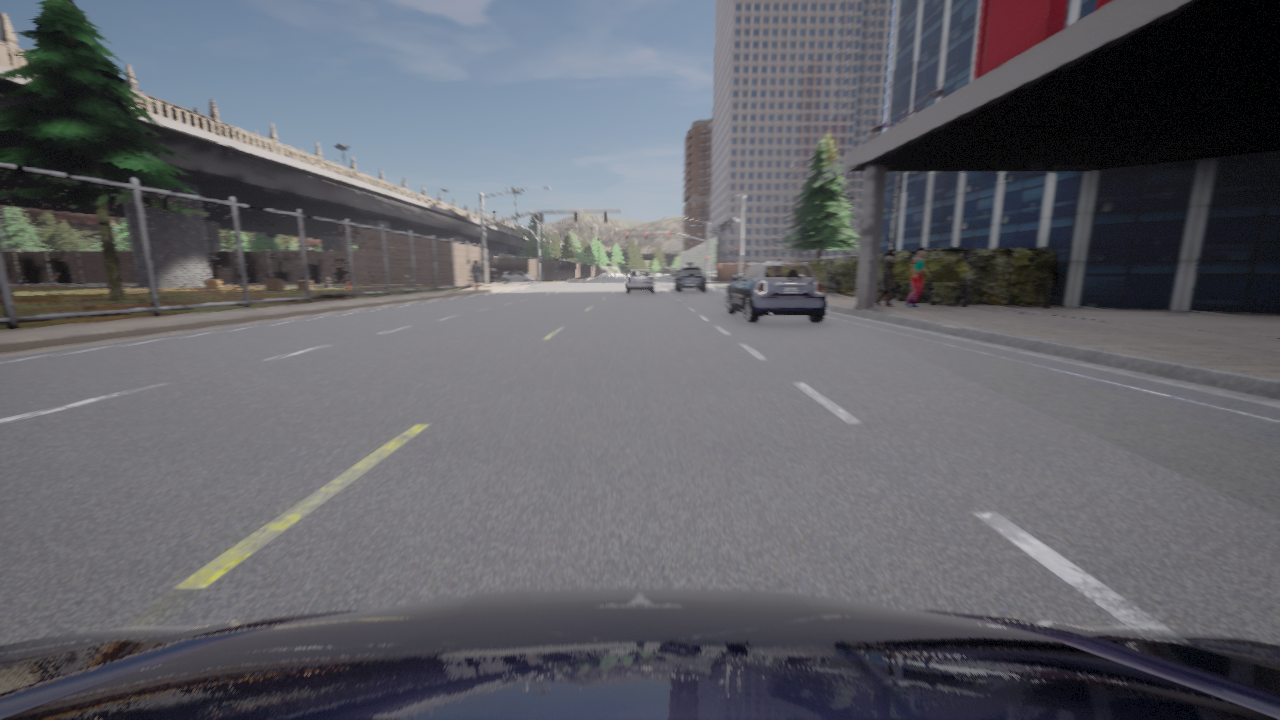cyclist: (0, 588, 1279, 719), (726, 263, 826, 323), (674, 267, 705, 291), (625, 269, 654, 292), (501, 271, 536, 284), (487, 269, 498, 283)
pedestrian: (905, 247, 929, 307), (875, 249, 895, 305), (469, 261, 481, 290), (777, 259, 780, 262)
